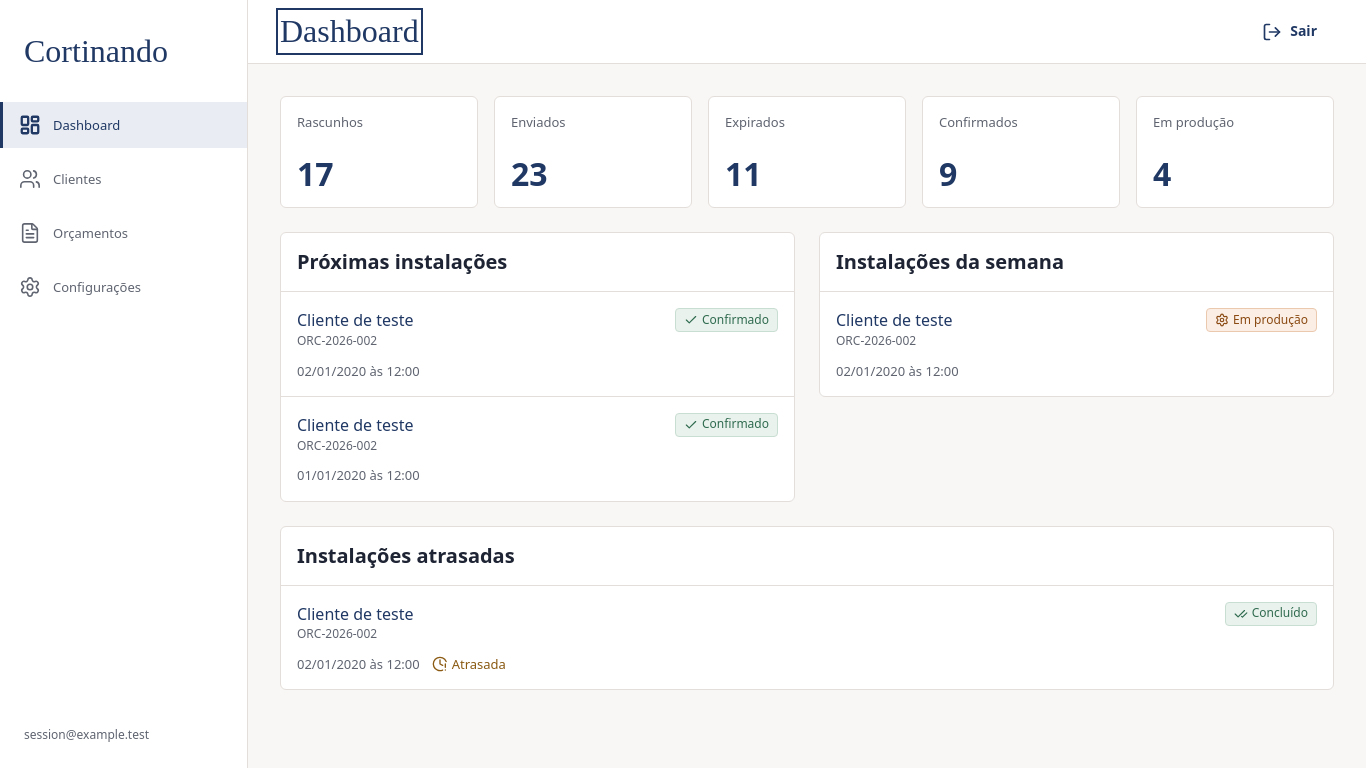
navigates from Enviados to its exact filter
Click the link "Enviados 23".
click(593, 152)  # box 494,96 -> 692,208
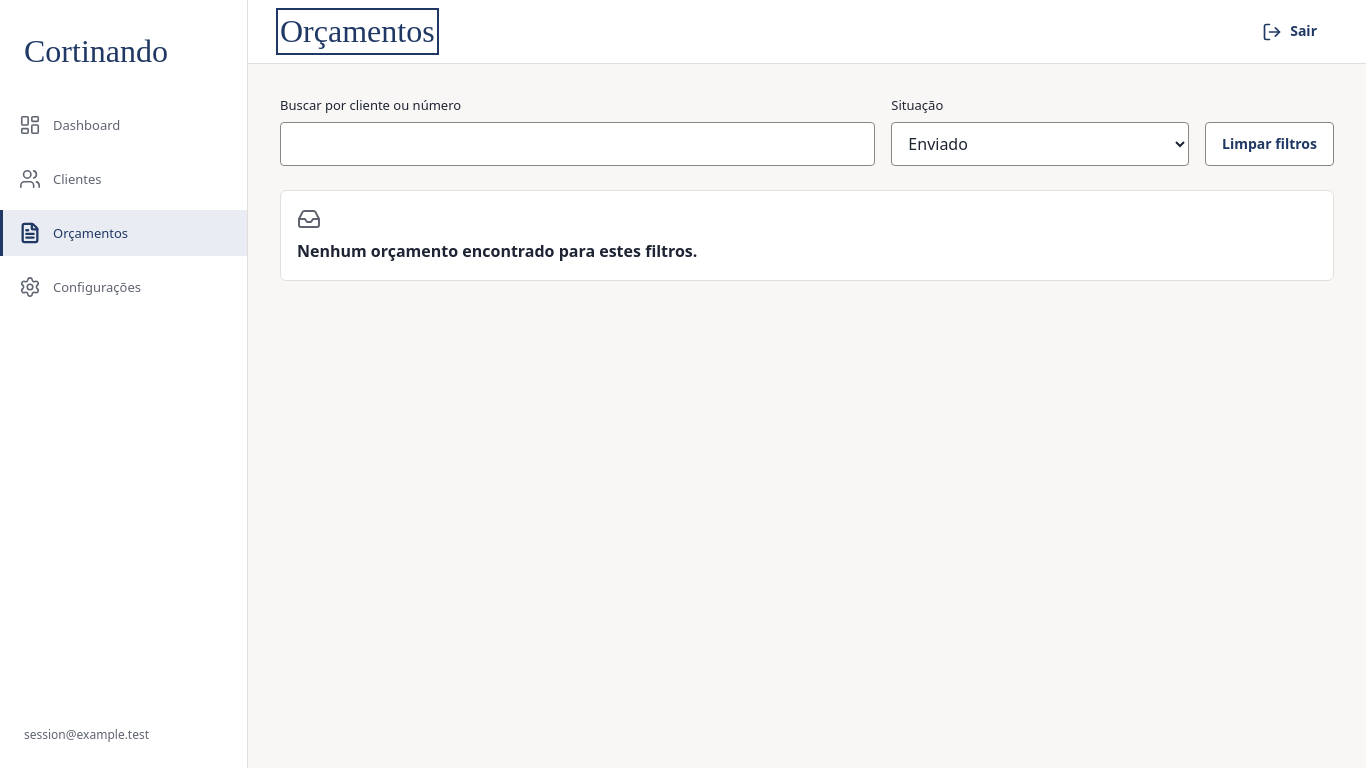
Check: the heading "Orçamentos" is shown, box 280,12 -> 435,51
